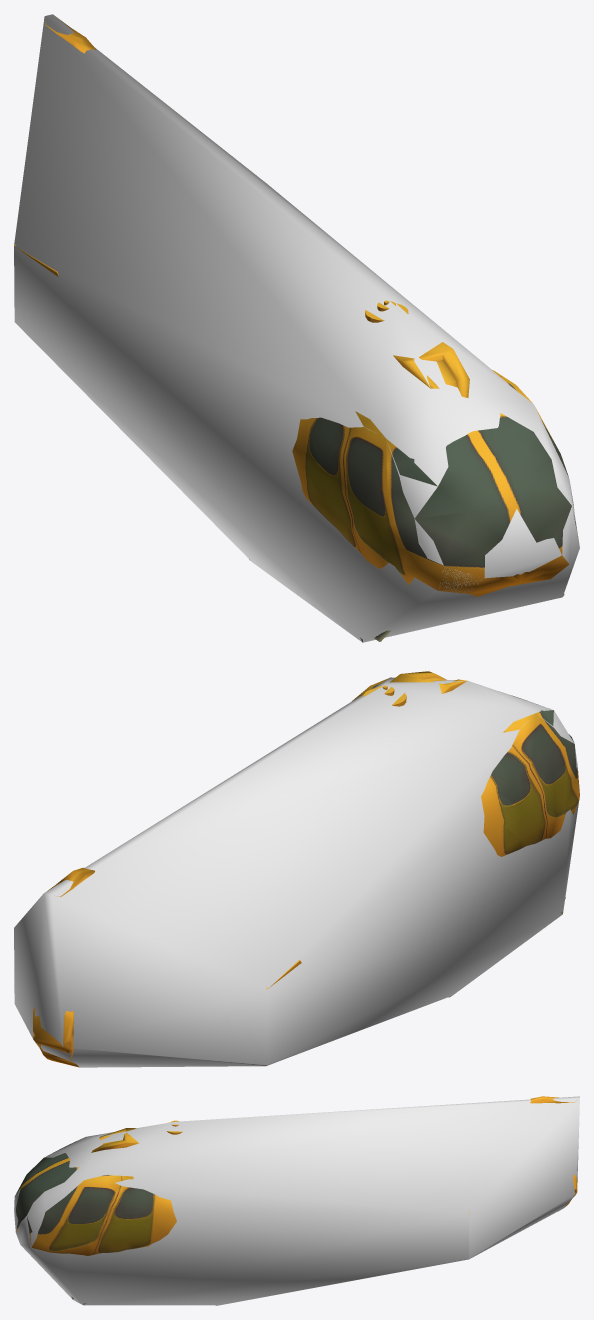
3 renders of one model, top to bottom at view 1: azimuth 30°, elevation 25°; view 2: azimuth 150°, elevation 25°; view 3: azimuth 270°, elevation 25°, orthographic. The views are drawn at different scales.
Parts seen in each view (by area): view 1: chassis_kestrel_01_col, chassis_kestrel_01; view 2: chassis_kestrel_01_col, chassis_kestrel_01; view 3: chassis_kestrel_01_col, chassis_kestrel_01.
Part boxes in pixels (x1=…): chassis_kestrel_01_col: x1=14, y1=14, x2=579, y2=642; chassis_kestrel_01: x1=14, y1=17, x2=577, y2=642; chassis_kestrel_01_col: x1=14, y1=677, x2=578, y2=1067; chassis_kestrel_01: x1=33, y1=671, x2=579, y2=1067; chassis_kestrel_01_col: x1=14, y1=1096, x2=579, y2=1305; chassis_kestrel_01: x1=15, y1=1096, x2=577, y2=1305.
Bounding box in the file's own units: 3.1 × 3.5 × 10.02.
Materials: 2 (2 with a texture image).
